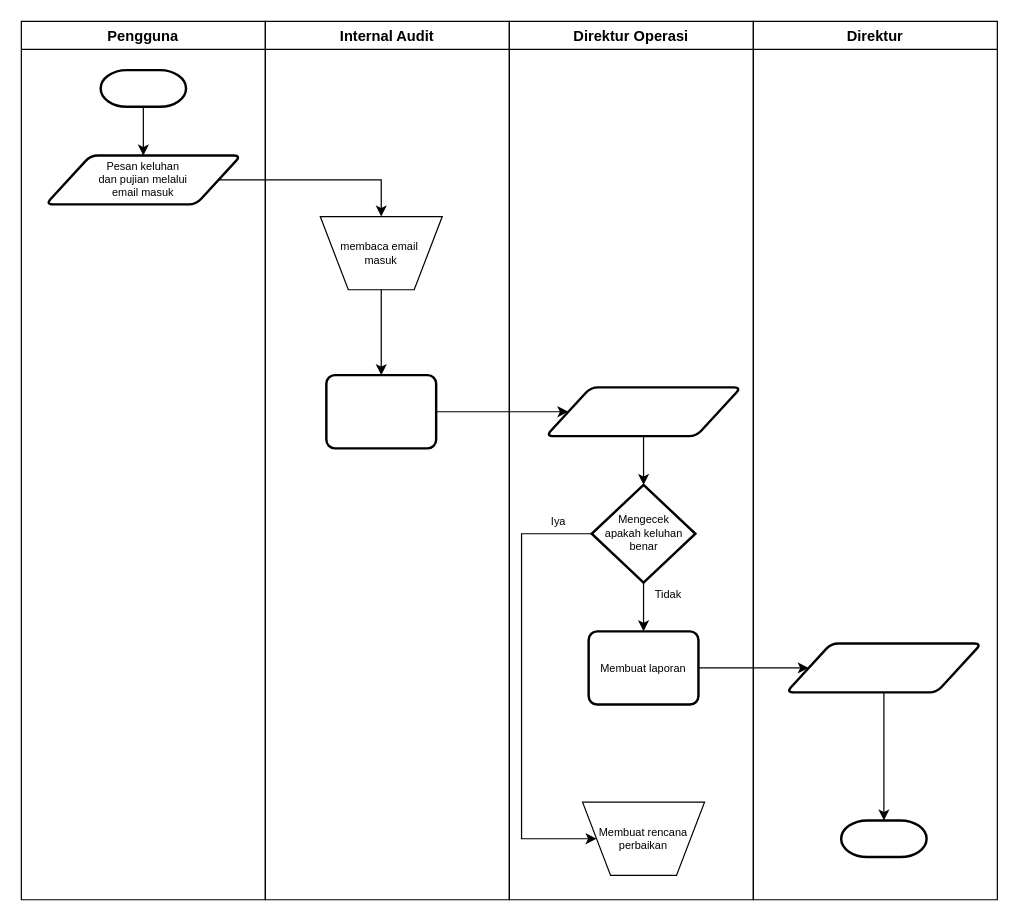
This 1019x921 diagram has some shape labels left out. Here are the shapes that lost their labels. From the top down, the centre of each, then its label:
At [143,87]: "Mulai".
At [381,411]: "Membuat rekapan email".
At [643,411]: "rekapan email diberikan ke direktur operasi".
At [883,667]: "Menerima Laporan dari direktur operasi".
At [883,838]: "Selesai".
